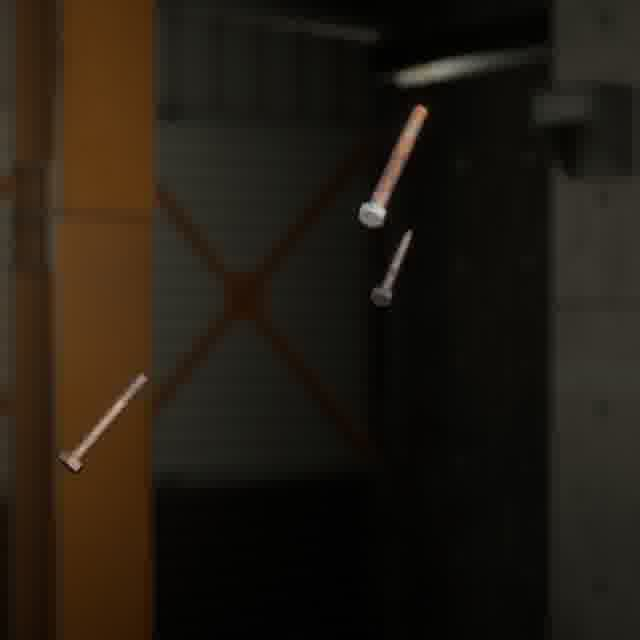bolt: (53, 368, 153, 478), (354, 101, 431, 232), (366, 225, 417, 310)
